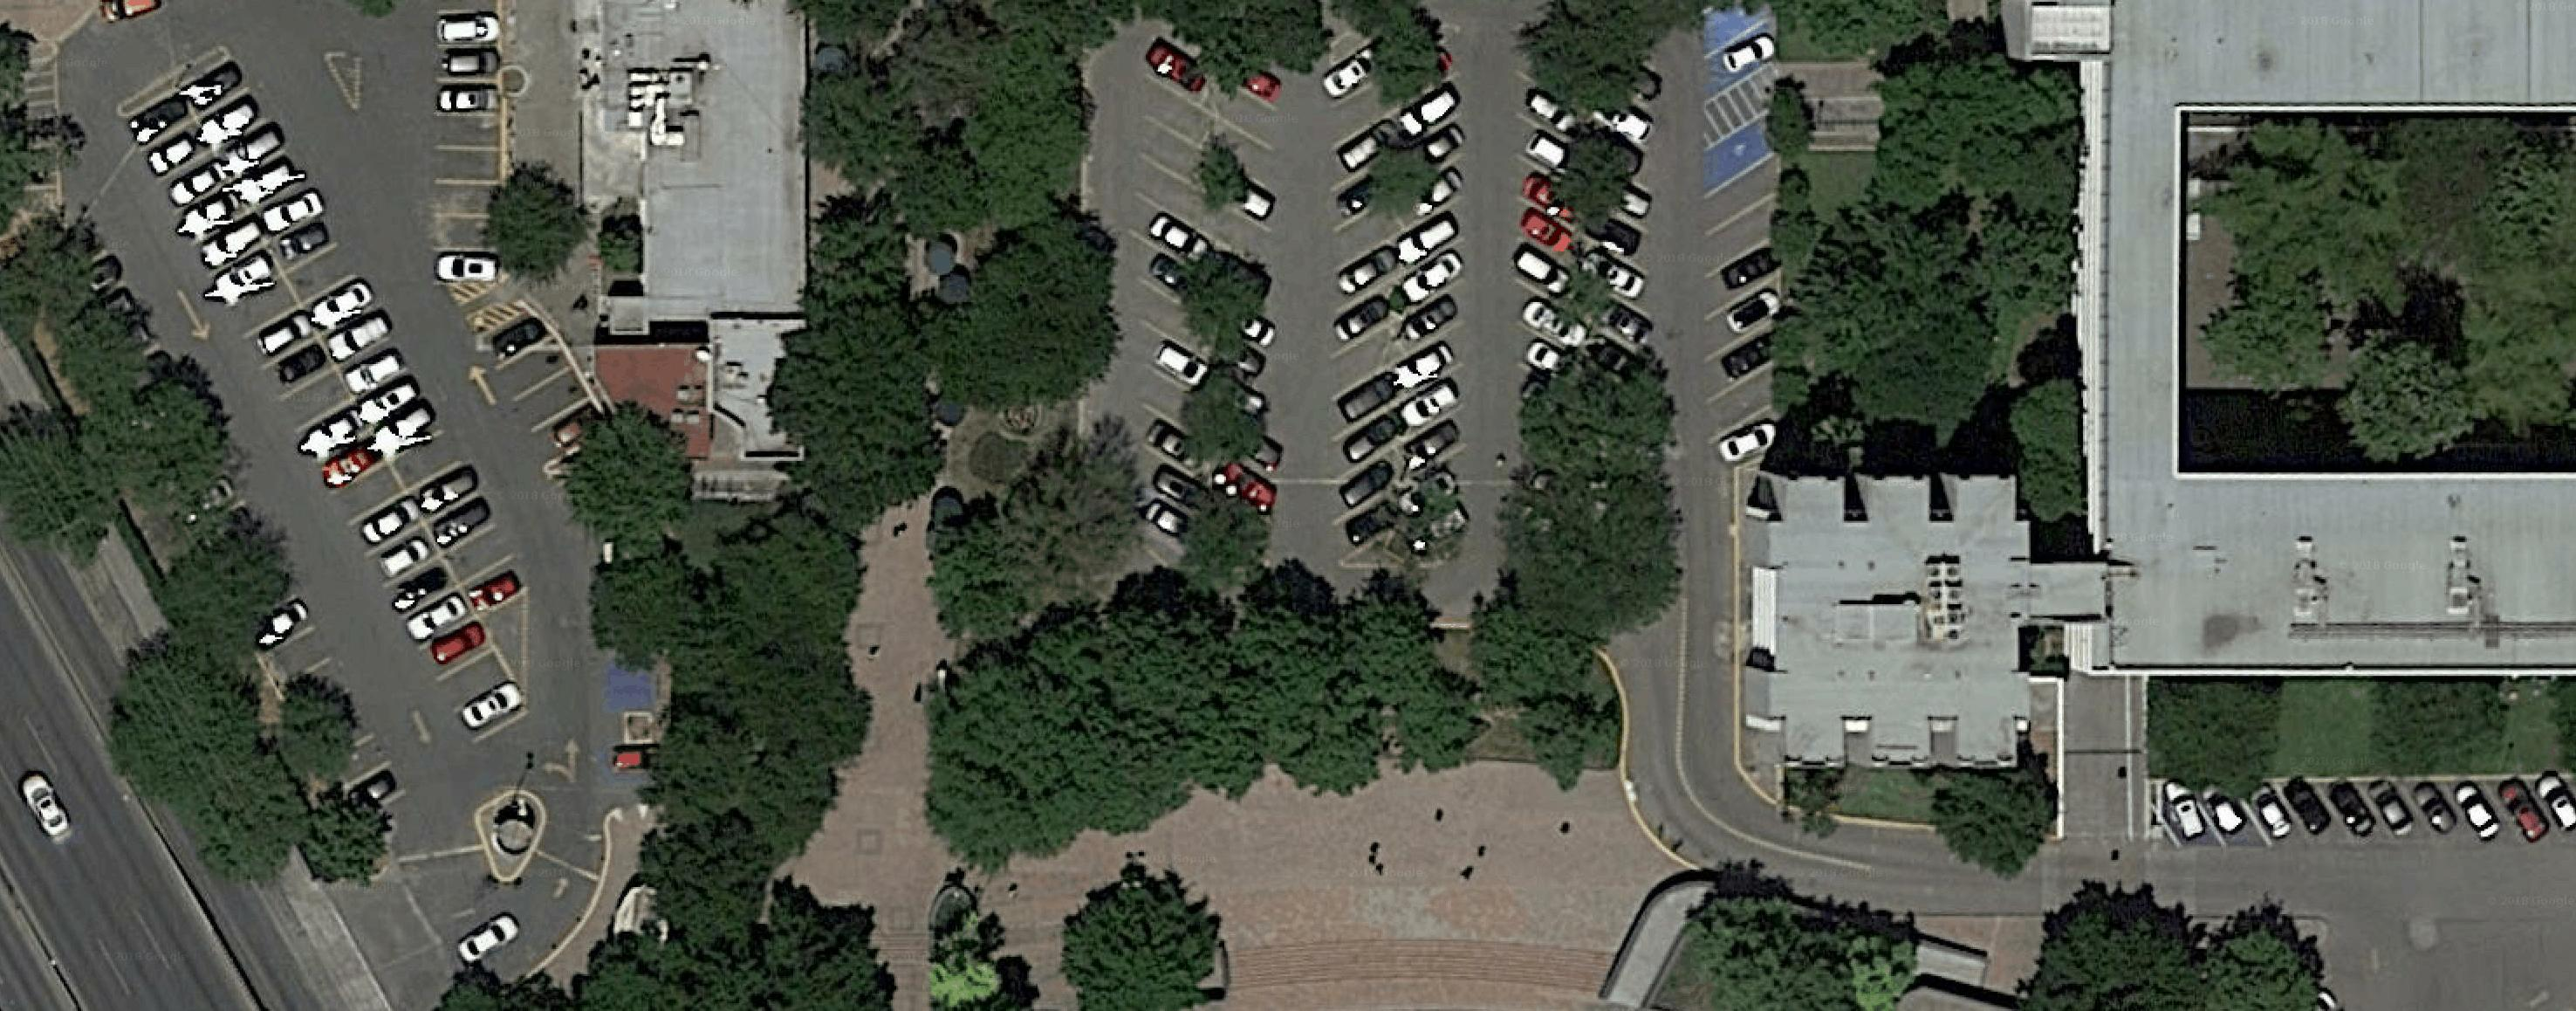parkingspot: (117, 85, 532, 748), (177, 49, 536, 623), (1124, 28, 1227, 564), (1383, 23, 1475, 559), (1322, 36, 1413, 570), (1699, 108, 1789, 498), (2157, 774, 2576, 852), (1580, 61, 1664, 386), (1510, 61, 1592, 388), (430, 0, 508, 286), (471, 309, 609, 469), (250, 589, 356, 712), (1697, 0, 1781, 110), (337, 715, 414, 812)
